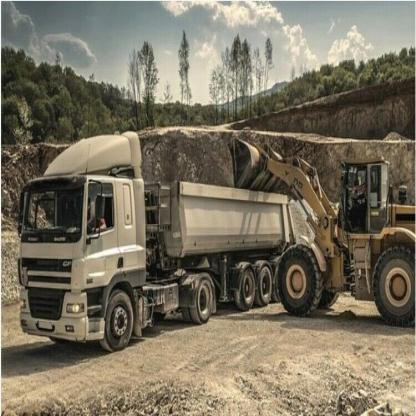dump_truck: (13, 111, 302, 360)
